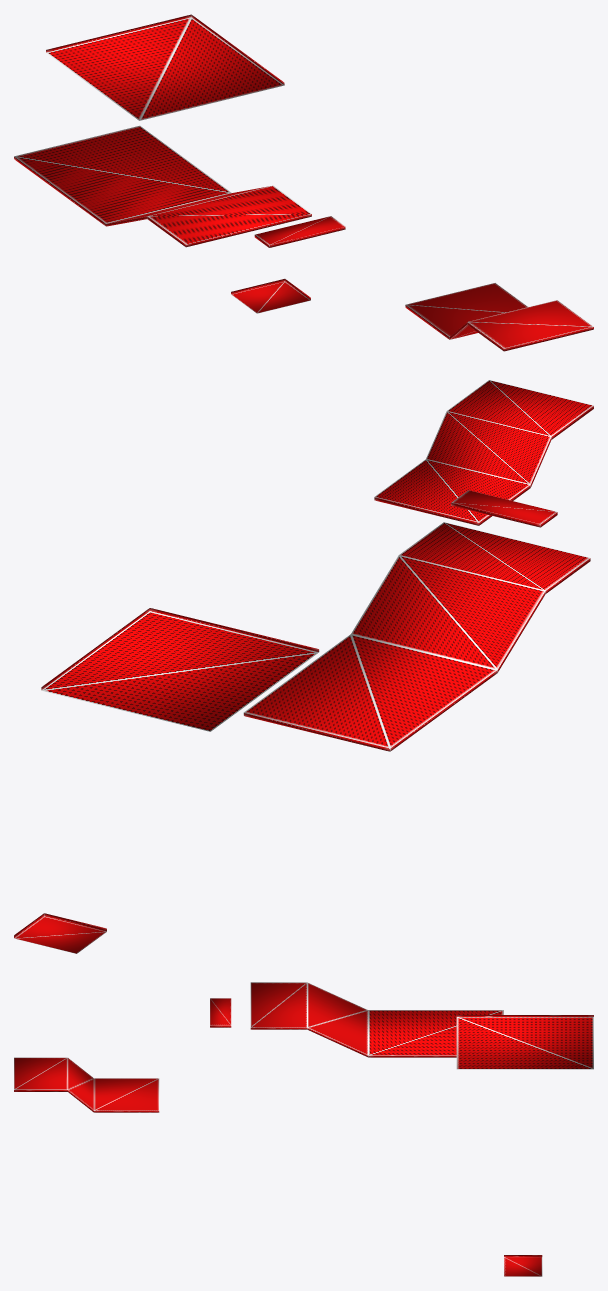
Rendered from Death.obj.
3 renders of one model, top to bottom at view 1: azimuth 30°, elevation 25°; view 2: azimuth 150°, elevation 25°; view 3: azimuth 270°, elevation 25°, orthographic. The views are drawn at different scales.
Size of the model in its own units: 3301 by 2762 by 7575.
Materials: 1 (1 with a texture image).
